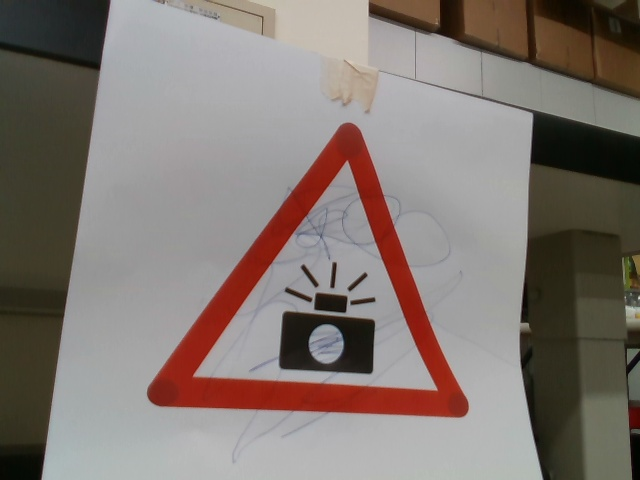camera: (141, 116, 475, 421)
